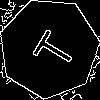T: (24, 23, 79, 74)
